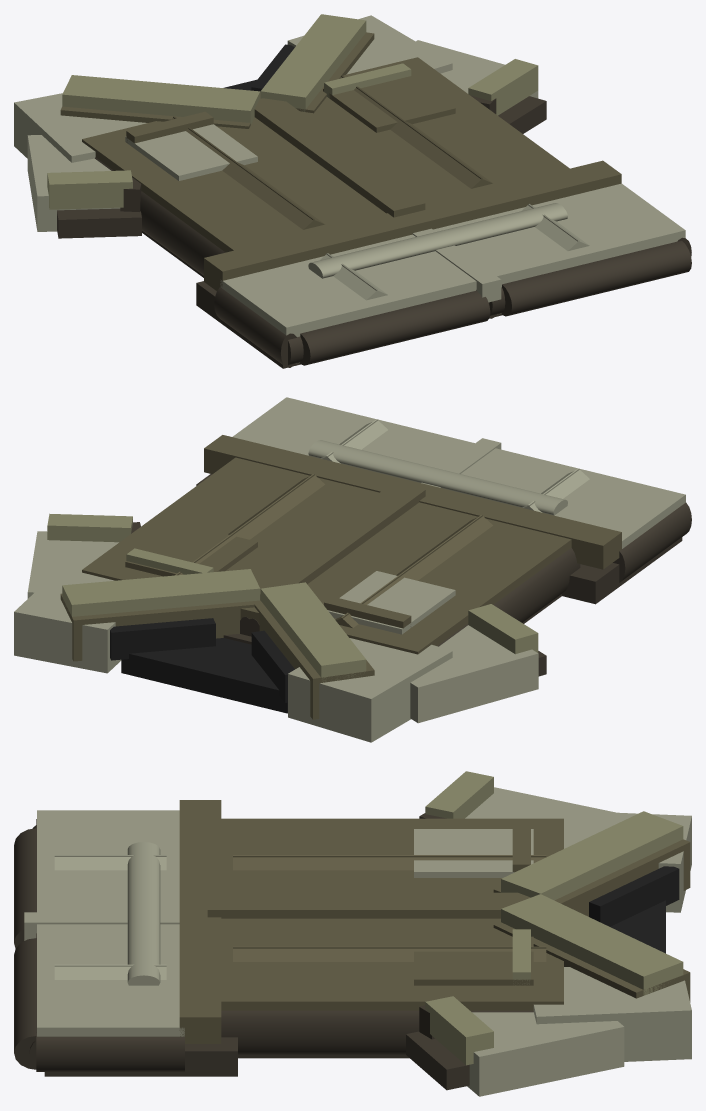
Rendered from CMU3DRMCJumpsuitSunRidersWorldCloud.glb.
3 views of the same model, one above another, from view 1: azimuth 30°, elevation 25°; view 2: azimuth 150°, elevation 25°; view 3: azimuth 270°, elevation 25° (orthographic). The views are drawn at different scales.
Parts seen in each view (by area): view 1: left shirt front continuous cloth panel, right shirt front continuous cloth panel, left folded trouser panel continuous cloth panel, continuous marine cloth waistband, right folded trouser panel continuous cloth panel, right turned trouser hem, left turned trouser hem, left turned collar face, continuous center button placket, right turned collar face, marine lower folded cloth highlight, left continuous shoulder cloth (+22 smaller); view 2: left shirt front continuous cloth panel, right shirt front continuous cloth panel, continuous marine cloth waistband, left continuous shoulder cloth, left folded trouser panel continuous cloth panel, left sloping sleeve cloth, right folded trouser panel continuous cloth panel, recessed inner neck facing, right turned collar face, right continuous shoulder cloth, continuous center button placket, left turned collar face (+20 smaller); view 3: right shirt front continuous cloth panel, left shirt front continuous cloth panel, right folded trouser panel continuous cloth panel, left folded trouser panel continuous cloth panel, continuous marine cloth waistband, right sloping sleeve cloth, right shirt front right turned edge, continuous center button placket, right continuous shoulder cloth, right turned collar face, left turned collar face, right folded trouser panel right turned edge (+25 smaller).
Boxes of the visible parts, x1,y1,x2,y2 form: left shirt front continuous cloth panel: (82,117,385,252); right shirt front continuous cloth panel: (300,57,569,203); left folded trouser panel continuous cloth panel: (220,234,476,363); continuous marine cloth waistband: (204,160,621,290); right folded trouser panel continuous cloth panel: (433,183,685,314); right turned trouser hem: (501,241,691,316); left turned trouser hem: (299,291,490,365); left turned collar face: (62,75,260,124); continuous center button placket: (254,98,425,217); right turned collar face: (260,14,366,111); marine lower folded cloth highlight: (308,203,567,278); left continuous shoulder cloth: (14,93,146,162); left shirt front continuous cloth panel: (250,502,571,654); right shirt front continuous cloth panel: (82,457,378,619); continuous marine cloth waistband: (204,435,621,569); left continuous shoulder cloth: (288,638,452,742); left folded trouser panel continuous cloth panel: (461,448,685,548); left sloping sleeve cloth: (410,625,538,723); right folded trouser panel continuous cloth panel: (232,397,474,468); recessed inner neck facing: (121,638,287,713); right turned collar face: (62,569,260,616); right continuous shoulder cloth: (14,558,121,673); continuous center button placket: (257,482,425,600); left turned collar face: (260,582,366,682); right shirt front continuous cloth panel: (221,918,563,1010); left shirt front continuous cloth panel: (221,818,563,892); right folded trouser panel continuous cloth panel: (37,924,184,1036); left folded trouser panel continuous cloth panel: (37,810,179,912); continuous marine cloth waistband: (179,800,221,1043); right sloping sleeve cloth: (467,1012,624,1096); right shirt front right turned edge: (221,1010,533,1054); continuous center button placket: (207,892,530,918); right continuous shoulder cloth: (533,967,691,1061); right turned collar face: (501,894,683,995); left turned collar face: (501,811,683,900); right folded trouser panel right turned edge: (36,1032,184,1071).
Size of the model in its own units: 0.3961 by 0.05 by 0.4159.
